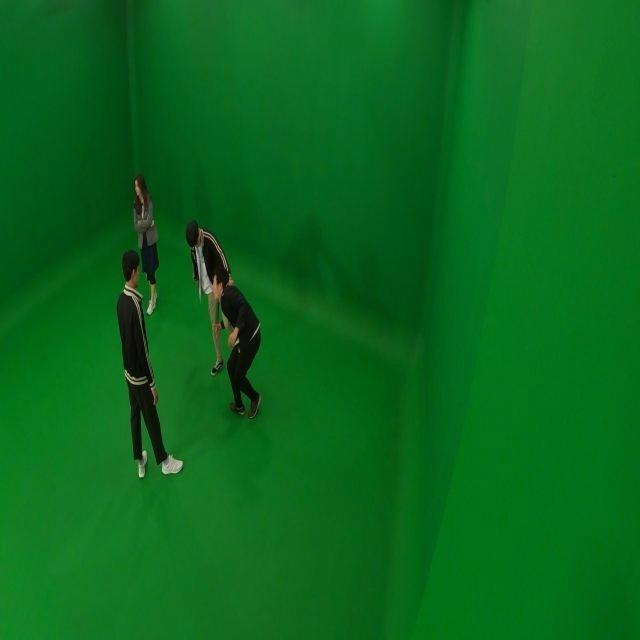fight: (183, 218, 263, 418)
non-fight: (117, 247, 177, 480), (125, 171, 163, 314)
